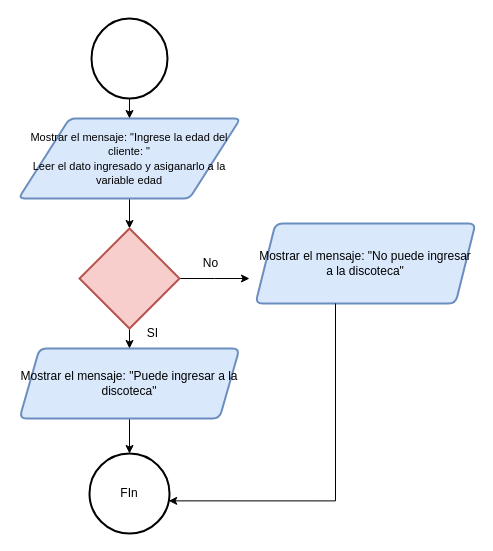
This 493x551 diagram has some shape labels left out. Here are the shapes that lost their labels. From the top down, the centre of each, then its label:
At [129,58]: "Inicio".
At [129,278]: "Si edad >= 18 entonces".
